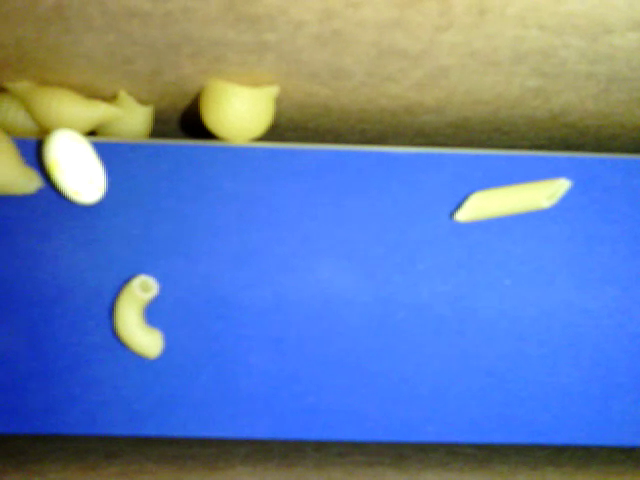elbow: (111, 271, 168, 361)
penne: (454, 175, 569, 221)
shell: (1, 76, 127, 136), (199, 79, 281, 143), (87, 87, 157, 140), (1, 130, 47, 192)
